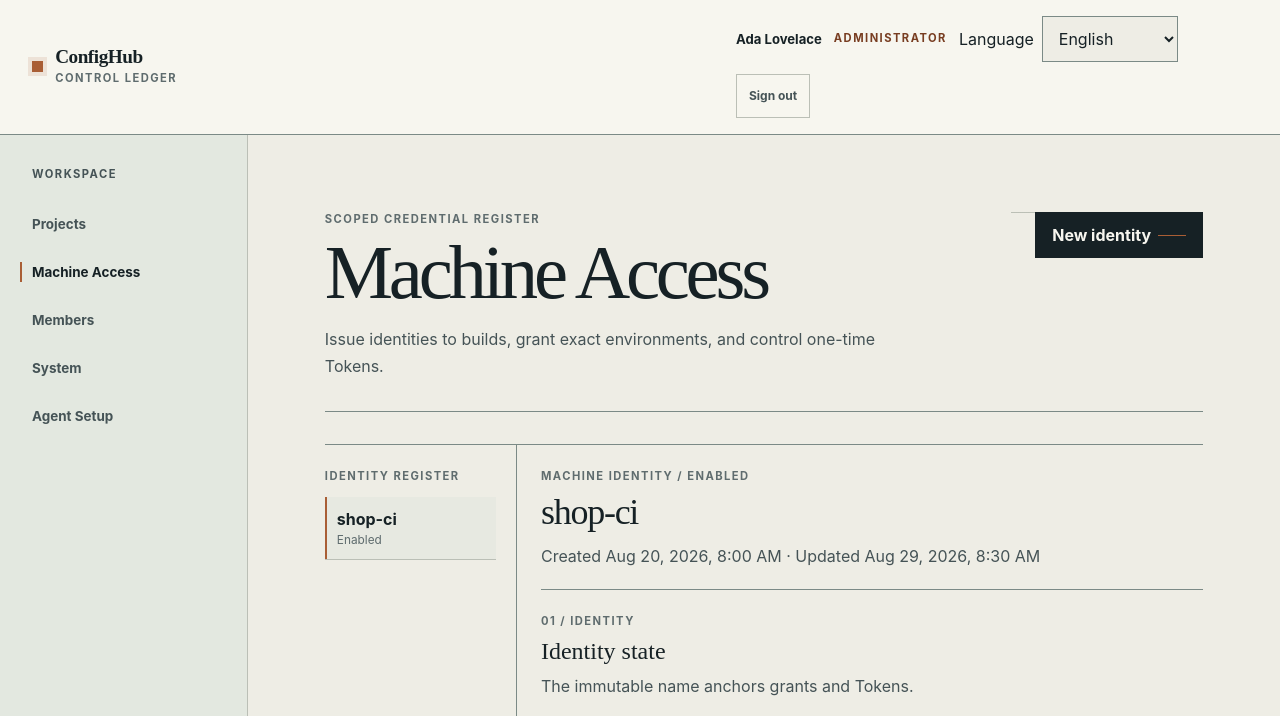
Test case: MachineAccessPage › creates a named identity and opens its durable register entry
This screenshot has width=1280, height=716.
Click the button "New identity".
click(1119, 234)  # box [1035,212,1203,258]
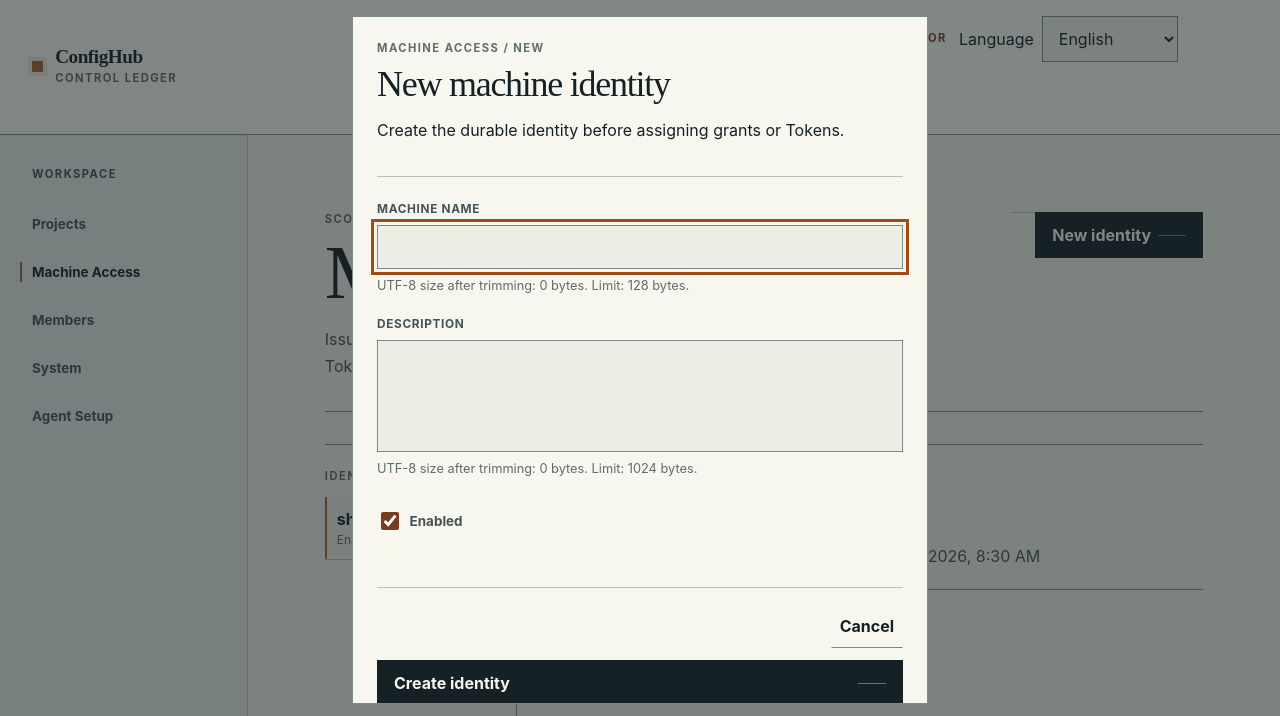
Type "stage-ci" into the field labelled "Machine name".
click(640, 247); type("stage-ci")  # box [377,225,903,269]
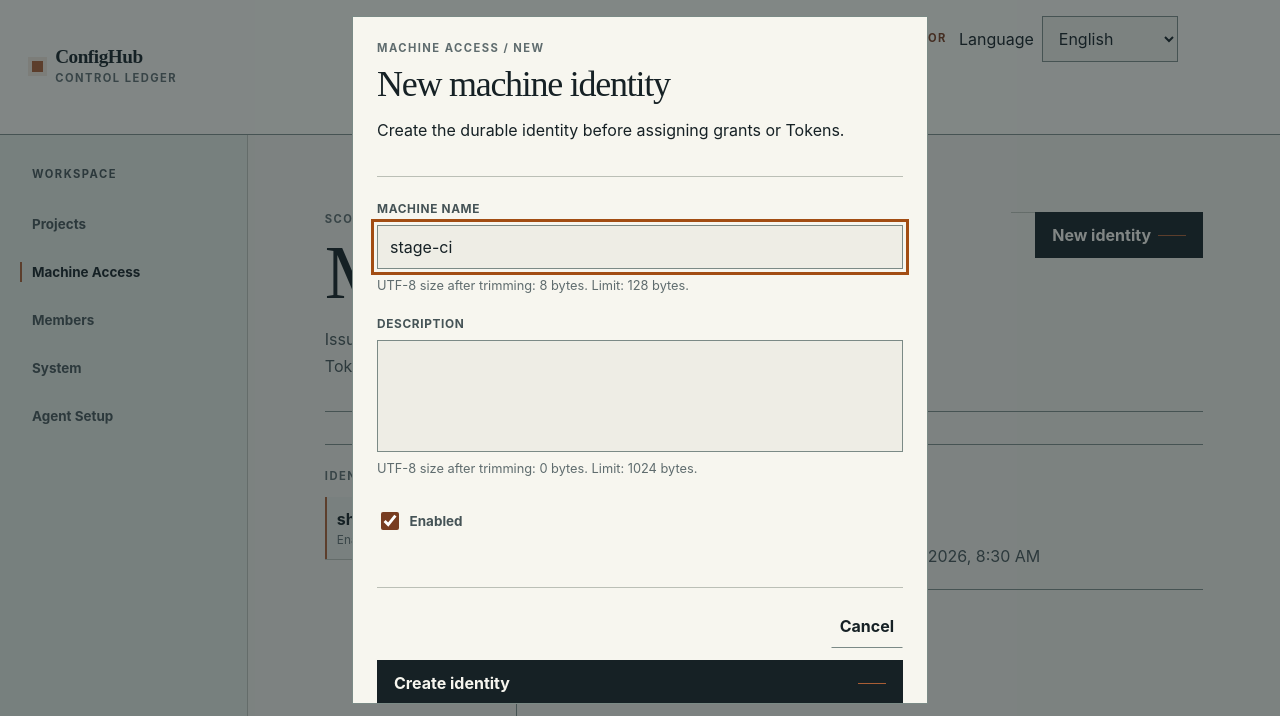
Type "Staging delivery" into the text box labelled "Description".
click(640, 396); type("Staging delivery")  # box [377,340,903,452]
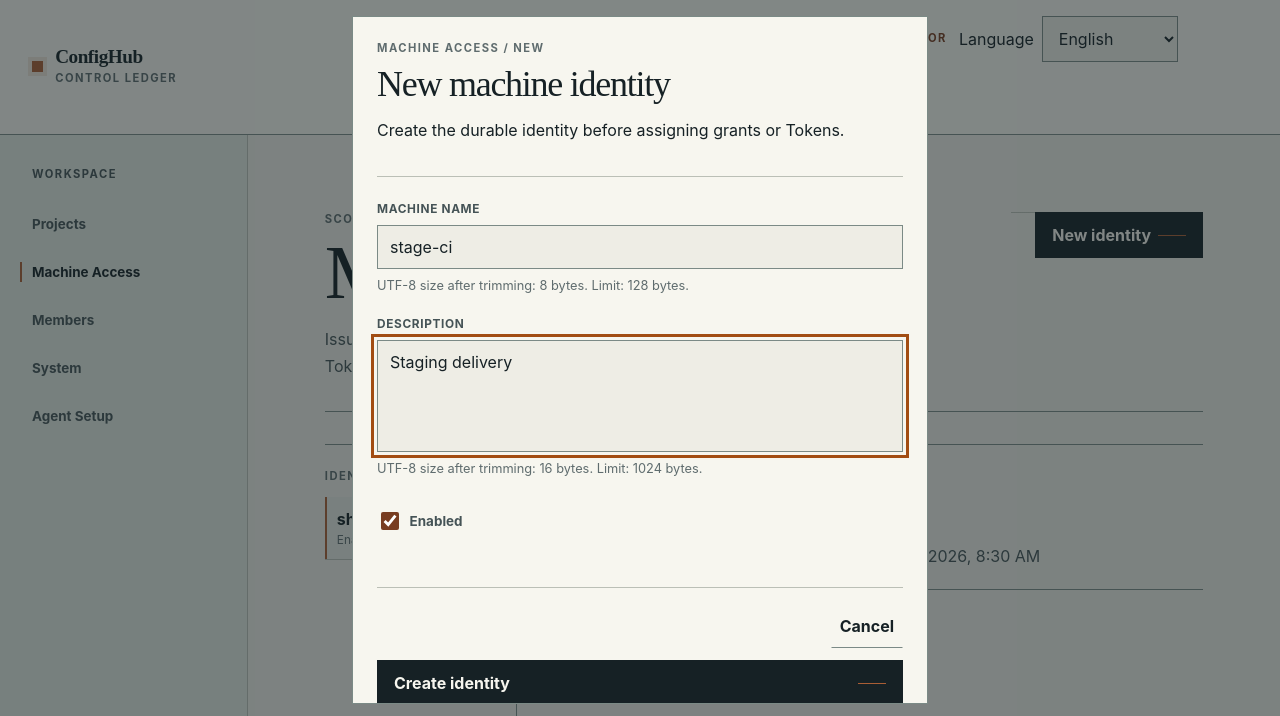
Click the button "Create identity".
click(452, 683)  # box [377,660,903,706]
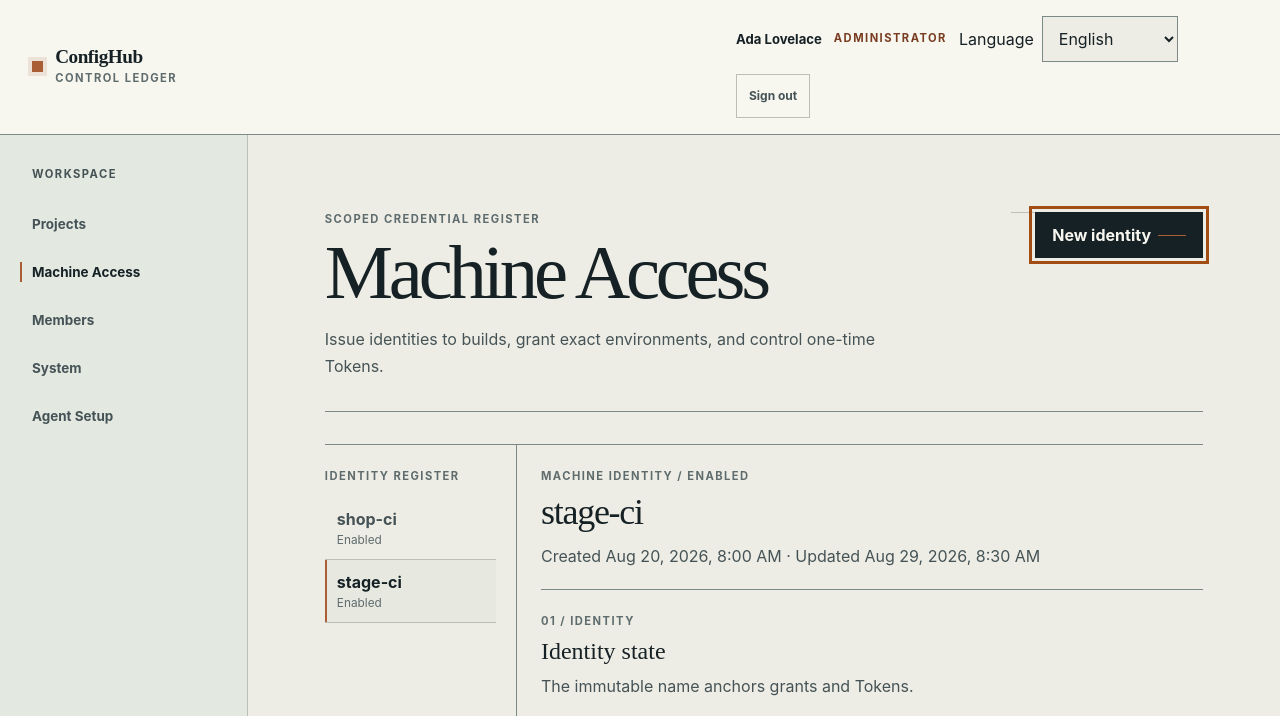
Now the heading "stage-ci" is shown, box [541,492,643,532]
